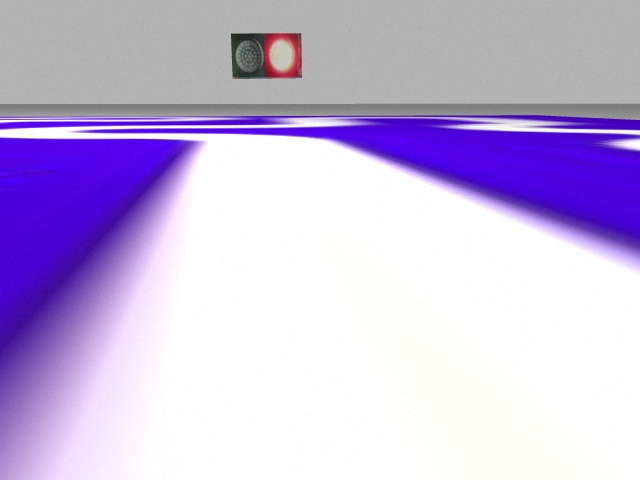red: (264, 33, 303, 76)
